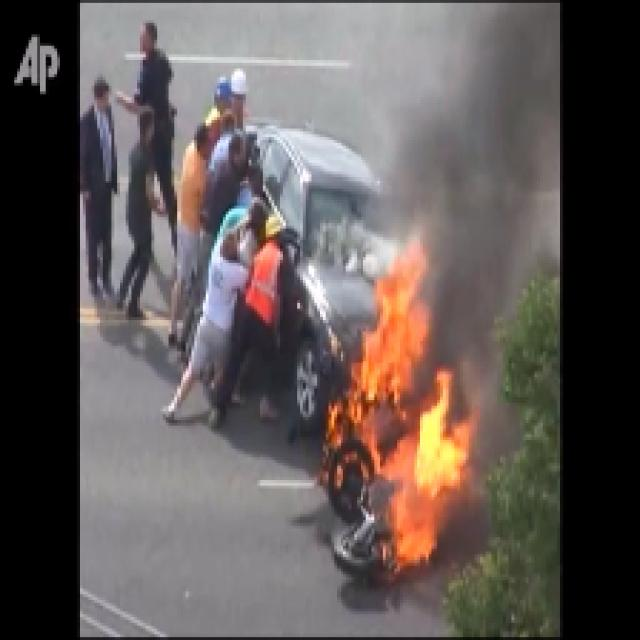fire: (343, 350, 446, 560)
smoke: (429, 64, 535, 308)
